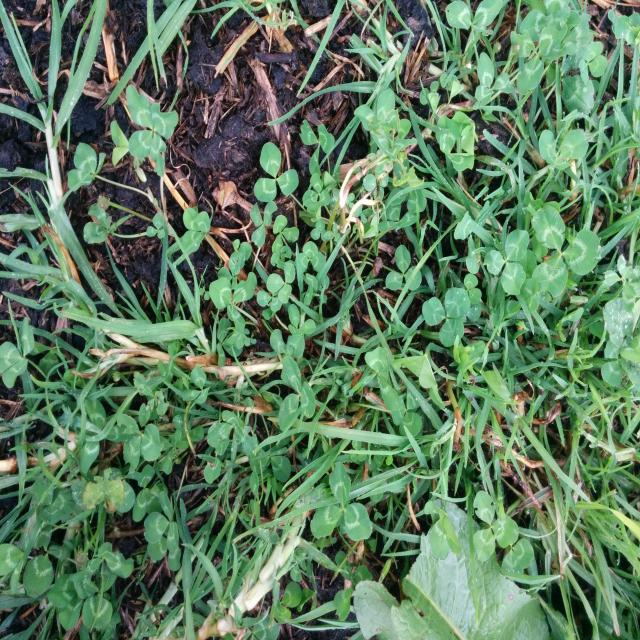Four Leaf Clover: (125, 85, 178, 177)
